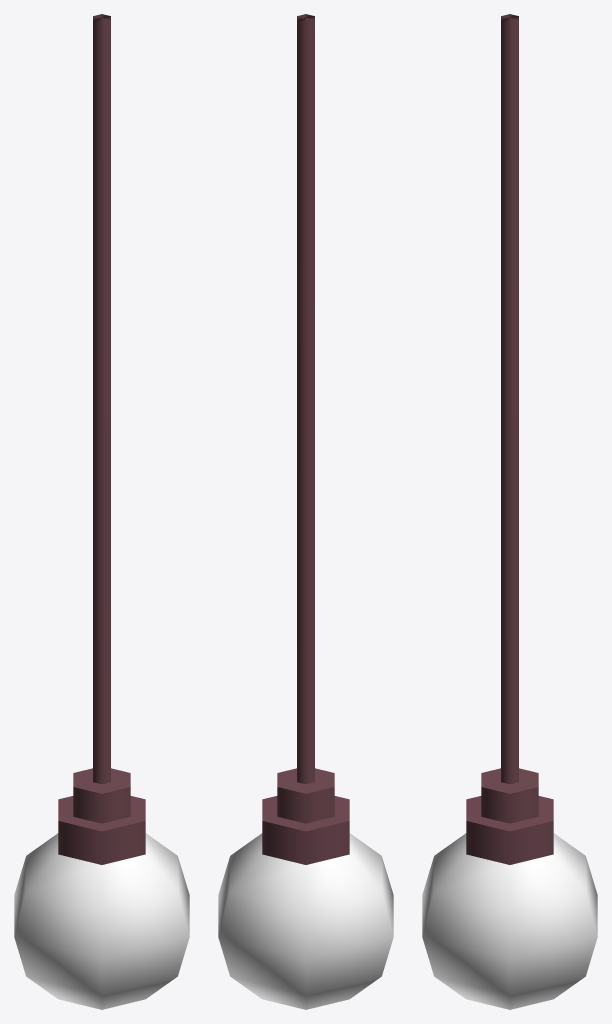
File: lampRound.fbx
3 renders of one model, left to right at view 1: azimuth 30°, elevation 25°; view 2: azimuth 150°, elevation 25°; view 3: azimuth 270°, elevation 25°, orthographic.
Visible parts, largest first — view 1: lampRound; view 2: lampRound; view 3: lampRound.
Boxes of the visible parts, x1,y1,x2,y2 form: lampRound: [14, 14, 189, 1009]; lampRound: [218, 14, 393, 1009]; lampRound: [422, 14, 597, 1009].
Bounding box in the file's own units: 1.46 × 7.81 × 1.26.
